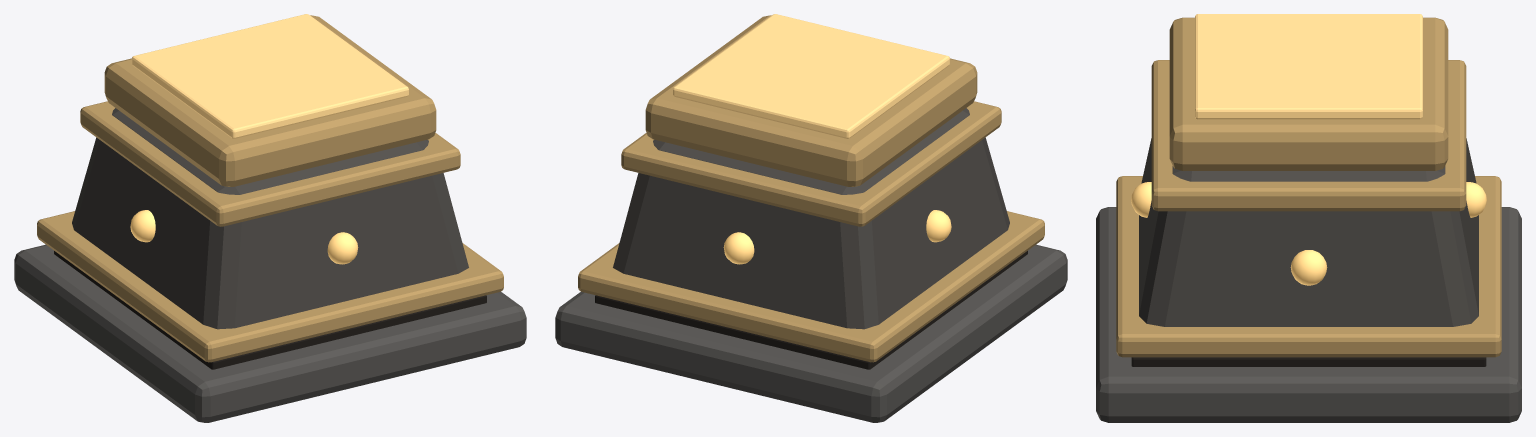
File: wall.glb
The picture shows the model from 3 angles, left to right: view 1: azimuth 30°, elevation 25°; view 2: azimuth 150°, elevation 25°; view 3: azimuth 270°, elevation 25°; orthographic projection. The views are drawn at different scales.
Parts seen in each view (by area): view 1: Wall_Body, Wall_Base, Wall_Cap_Crown, Wall_Top_Cap, Wall_Trim_Lower, Wall_Trim_Upper, Wall_Seam, Wall_Rivet_Back, Wall_Rivet_Left; view 2: Wall_Body, Wall_Base, Wall_Cap_Crown, Wall_Top_Cap, Wall_Trim_Lower, Wall_Trim_Upper, Wall_Seam, Wall_Rivet_Front, Wall_Rivet_Left; view 3: Wall_Body, Wall_Base, Wall_Cap_Crown, Wall_Top_Cap, Wall_Trim_Lower, Wall_Trim_Upper, Wall_Seam, Wall_Rivet_Right, Wall_Rivet_Front, Wall_Rivet_Back.
Part boxes in pixels (<box>): Wall_Body: <box>72,108,468,329</box>; Wall_Base: <box>14,244,526,422</box>; Wall_Cap_Crown: <box>132,14,408,138</box>; Wall_Top_Cap: <box>104,15,436,186</box>; Wall_Trim_Lower: <box>37,211,503,362</box>; Wall_Trim_Upper: <box>80,101,460,226</box>; Wall_Seam: <box>54,251,486,369</box>; Wall_Rivet_Back: <box>327,232,358,264</box>; Wall_Rivet_Left: <box>130,210,155,242</box>; Wall_Body: <box>613,108,1009,329</box>; Wall_Base: <box>555,244,1067,422</box>; Wall_Cap_Crown: <box>673,14,949,138</box>; Wall_Top_Cap: <box>645,15,977,186</box>; Wall_Trim_Lower: <box>578,211,1044,362</box>; Wall_Trim_Upper: <box>621,101,1001,226</box>; Wall_Seam: <box>595,251,1027,369</box>; Wall_Rivet_Front: <box>723,232,754,264</box>; Wall_Rivet_Left: <box>926,210,951,242</box>; Wall_Body: <box>1139,138,1478,326</box>; Wall_Base: <box>1096,207,1521,422</box>; Wall_Cap_Crown: <box>1195,14,1422,119</box>; Wall_Top_Cap: <box>1169,17,1448,170</box>; Wall_Trim_Lower: <box>1116,176,1501,357</box>; Wall_Trim_Upper: <box>1151,60,1466,211</box>; Wall_Seam: <box>1131,357,1486,366</box>; Wall_Rivet_Right: <box>1290,250,1327,285</box>; Wall_Rivet_Front: <box>1466,182,1486,217</box>; Wall_Rivet_Back: <box>1131,182,1151,217</box>.
Bounding box in the file's own units: 0.84 × 0.6025 × 0.84.
